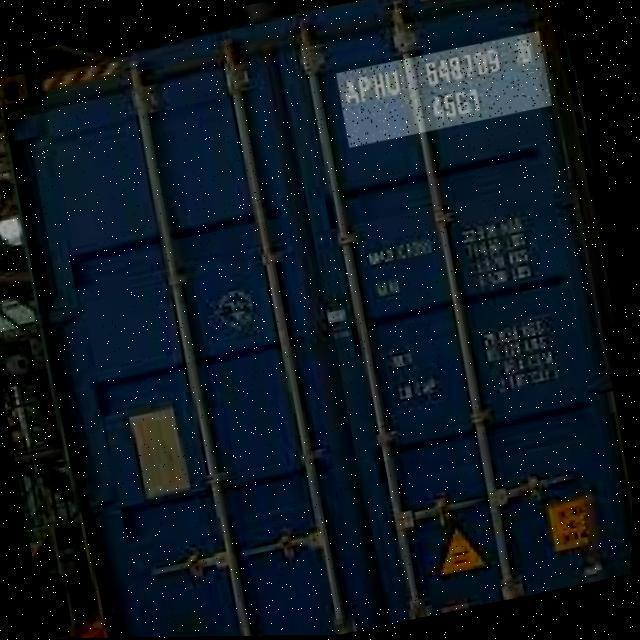container_number_h: (335, 33, 554, 150)
